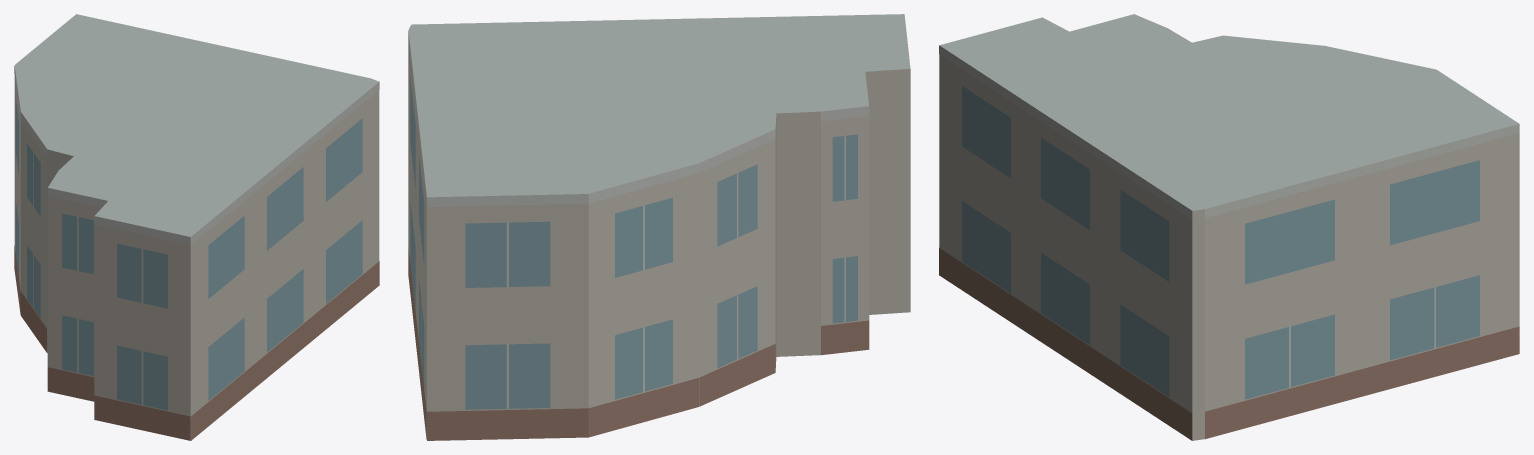
The model's file is survey-upis-32616199.glb.
3 views of the same model, side by side, from view 1: azimuth 30°, elevation 25°; view 2: azimuth 150°, elevation 25°; view 3: azimuth 270°, elevation 25° (orthographic). The views are drawn at different scales.
Visible parts, largest first — view 1: survey-upis-32616199.tmp; view 2: survey-upis-32616199.tmp; view 3: survey-upis-32616199.tmp.
Boxes of the visible parts, box(x1,y1,x2,y2) form: survey-upis-32616199.tmp: box(14, 14, 379, 440); survey-upis-32616199.tmp: box(408, 14, 910, 440); survey-upis-32616199.tmp: box(939, 14, 1519, 440).
Size of the model in its own units: 11.2 by 6.1 by 13.96.
